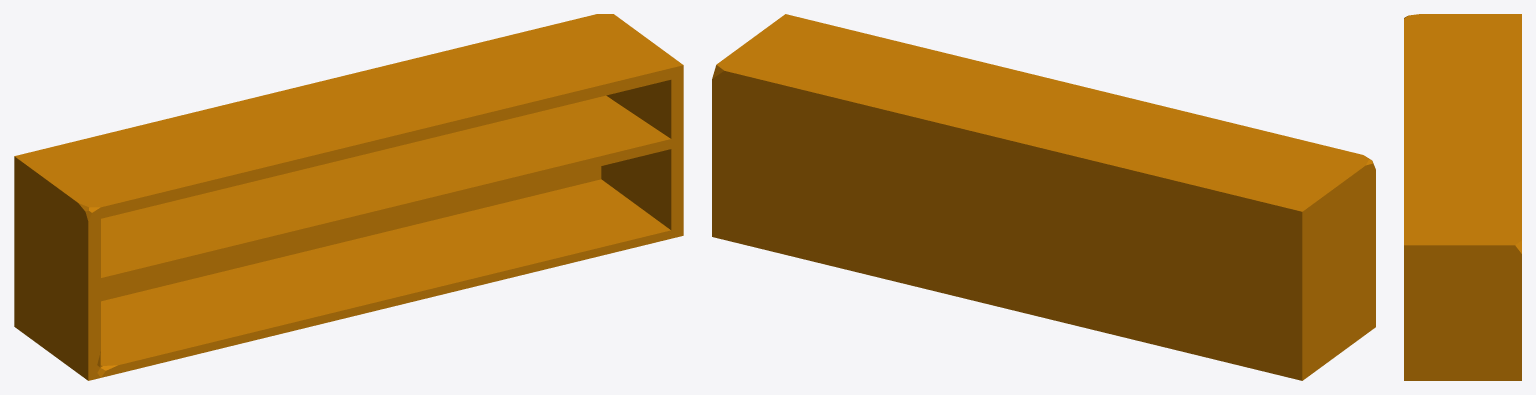
File: Shelf_03.fbx
The picture shows the model from 3 angles, left to right: view 1: azimuth 30°, elevation 25°; view 2: azimuth 150°, elevation 25°; view 3: azimuth 270°, elevation 25°; orthographic projection. The views are drawn at different scales.
Visible parts, largest first — view 1: Shelf_03; view 2: Shelf_03; view 3: Shelf_03.
Boxes of the visible parts, bbox=[...] form: Shelf_03: bbox=[14, 14, 683, 380]; Shelf_03: bbox=[712, 14, 1375, 380]; Shelf_03: bbox=[1404, 14, 1521, 380].
Size of the model in its own units: 200 by 54.76 by 43.11.
